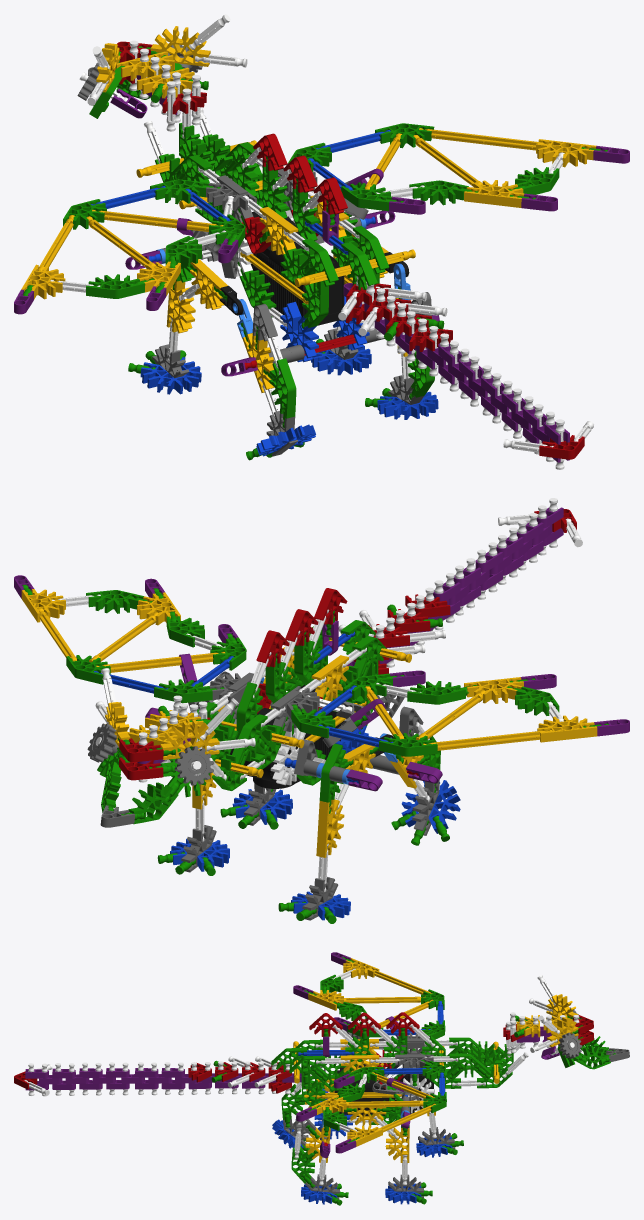
3 renders of one model, top to bottom at view 1: azimuth 30°, elevation 25°; view 2: azimuth 150°, elevation 25°; view 3: azimuth 270°, elevation 25°, orthographic. The views are drawn at different scales.
Parts seen in each view (by area): view 1: S3_L25.002, S3_L25.004, S3_L25.001, S3_L25.008, S3_L25.003, S3_L25.006, S3_L25.005, S3_L25.007, S3_L25; view 2: S3_L25.002, S3_L25.004, S3_L25.001, S3_L25.005, S3_L25.008, S3_L25.003, S3_L25.006, S3_L25.007; view 3: S3_L25.002, S3_L25.004, S3_L25.001, S3_L25.008, S3_L25.005, S3_L25.006, S3_L25.003, S3_L25.007.
Boxes of the visible parts, box(x1,y1,x2,y2) form: S3_L25.002: box(23, 46, 607, 460); S3_L25.004: box(21, 26, 596, 392); S3_L25.001: box(50, 14, 593, 469); S3_L25.008: box(14, 75, 629, 462); S3_L25.003: box(91, 130, 438, 456); S3_L25.006: box(117, 41, 584, 459); S3_L25.005: box(77, 44, 432, 456); S3_L25.007: box(219, 211, 409, 325); S3_L25: box(232, 263, 410, 338); S3_L25.002: box(22, 584, 608, 923); S3_L25.004: box(21, 589, 597, 857); S3_L25.001: box(51, 498, 582, 891); S3_L25.005: box(87, 671, 441, 920); S3_L25.008: box(14, 507, 629, 791); S3_L25.003: box(94, 631, 460, 920); S3_L25.006: box(119, 509, 576, 780); S3_L25.007: box(230, 684, 393, 788); S3_L25.002: box(211, 957, 615, 1205); S3_L25.004: box(293, 958, 578, 1162); S3_L25.001: box(24, 968, 579, 1184); S3_L25.008: box(25, 952, 579, 1158); S3_L25.005: box(283, 1007, 629, 1199); S3_L25.006: box(14, 1012, 593, 1146); S3_L25.003: box(272, 1001, 452, 1204); S3_L25.007: box(332, 1064, 434, 1118).
Size of the model in its own units: 4.38 by 1.89 by 5.83.
